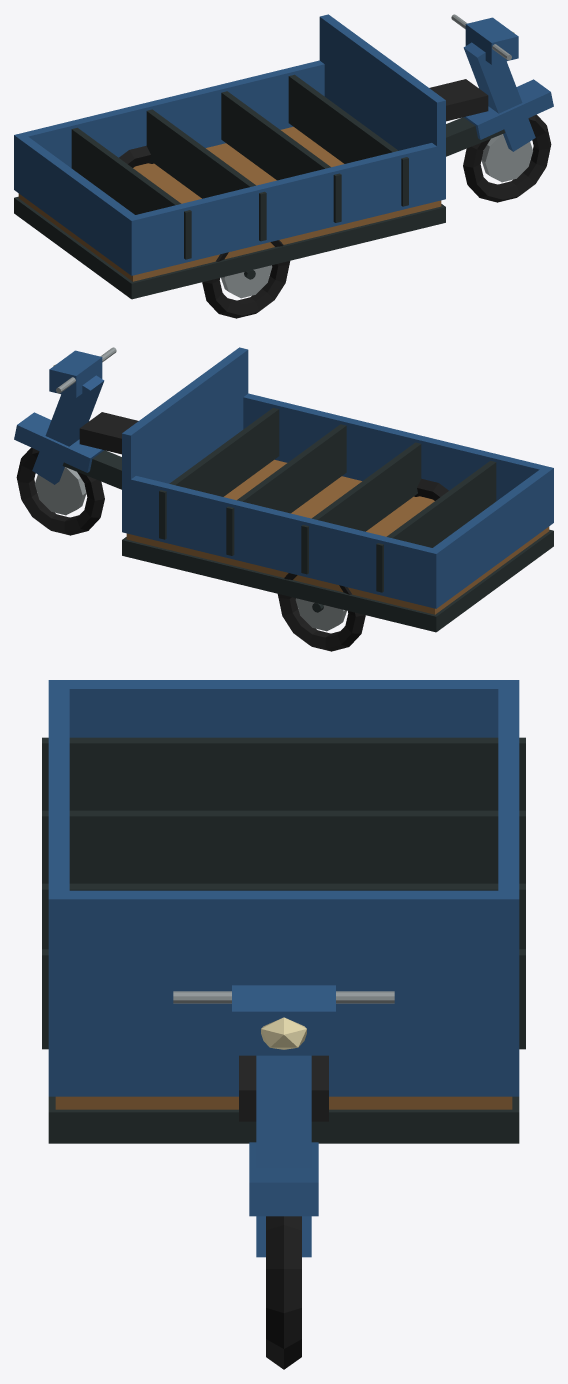
File: ba_gac.glb
3 views of the same model, one above another, from view 1: azimuth 30°, elevation 25°; view 2: azimuth 150°, elevation 25°; view 3: azimuth 270°, elevation 25° (orthographic). The views are drawn at different scales.
Visible parts, largest first — view 1: ba_gac; view 2: ba_gac; view 3: ba_gac.
Boxes of the visible parts, <box> form: ba_gac: <box>14,14,553,318</box>; ba_gac: <box>14,347,553,651</box>; ba_gac: <box>42,680,525,1369</box>.
Bounding box in the file's own units: 3.19 × 1.11 × 1.4.
